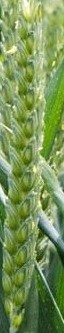Healthy Wheat: (1, 5, 55, 306)
